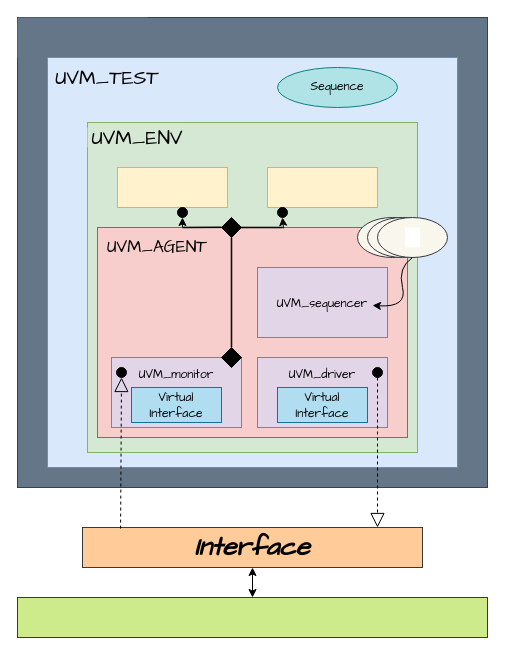
This 505x655 diagram has some shape labels left out. The shapes that lost their labels are listed below. From the top down, each one's centre as x and y in pixels, then its label:
the point at 82,37: Top Module
the point at 172,187: UVM_SCOREBOARD
the point at 322,187: Coverage Collector
the point at 412,237: SEQ ITEM
the point at 252,617: DUT
